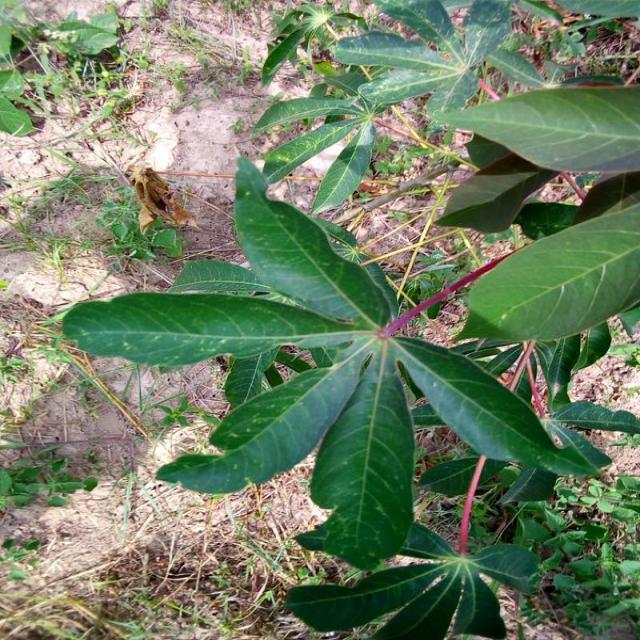cassava leaf: (45, 152, 611, 570), (232, 154, 396, 332), (293, 340, 415, 571), (458, 200, 638, 344), (438, 81, 640, 174)
